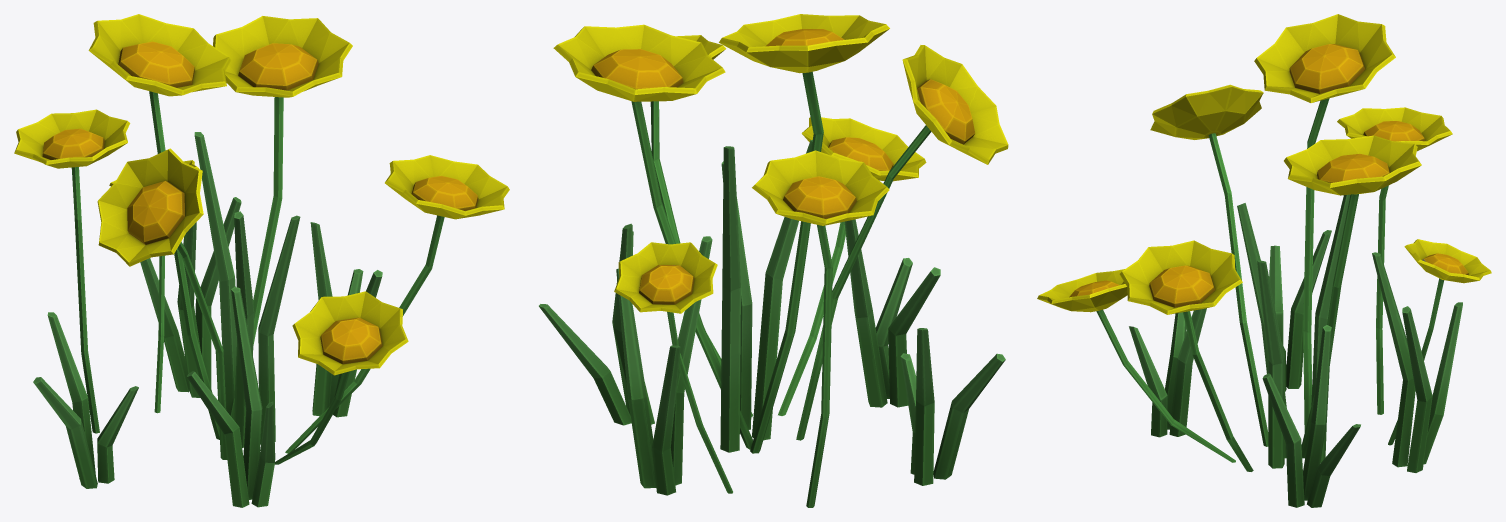
File: flower.fbx
3 views of the same model, side by side, from view 1: azimuth 30°, elevation 25°; view 2: azimuth 150°, elevation 25°; view 3: azimuth 270°, elevation 25° (orthographic). The views are drawn at different scales.
Parts seen in each view (by area): view 1: DesertMarigold; view 2: DesertMarigold; view 3: DesertMarigold.
Boxes of the visible parts, <box> form: DesertMarigold: <box>14,14,509,507</box>; DesertMarigold: <box>539,14,1008,507</box>; DesertMarigold: <box>1037,14,1491,507</box>.
Bounding box in the file's own units: 662 × 620 × 655.
1 material, 1 textured.
